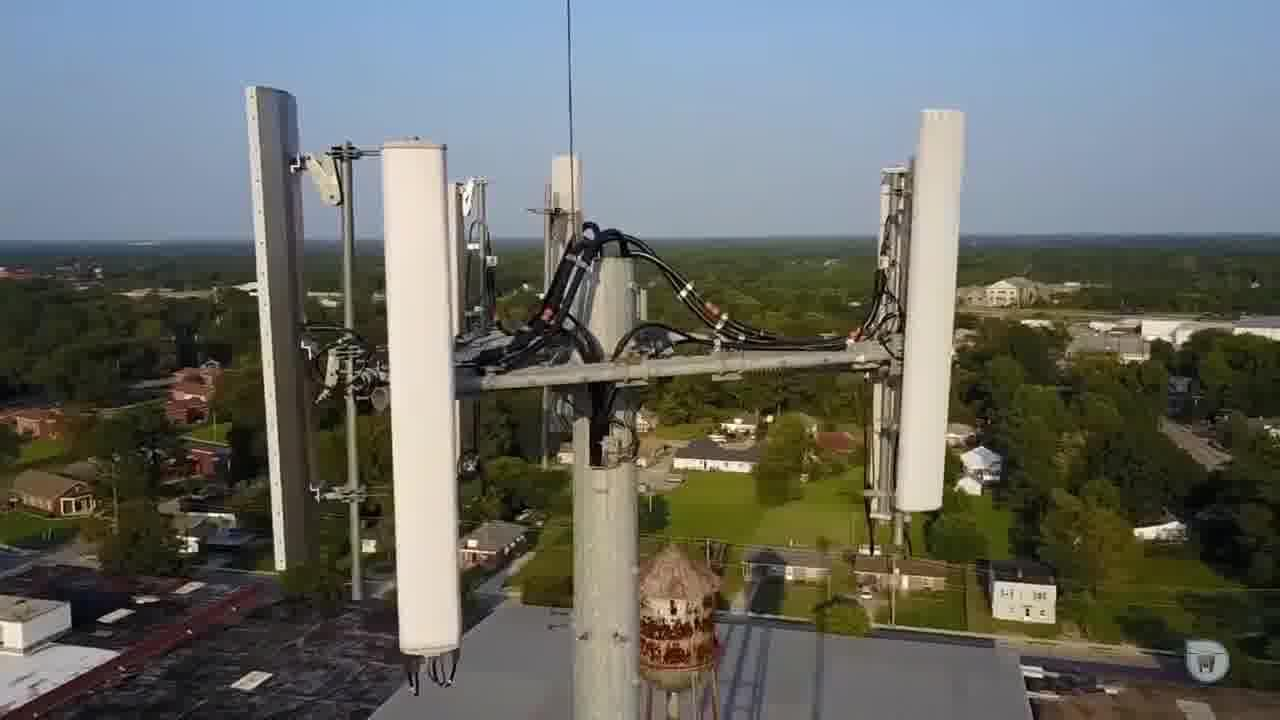antenna: (376, 129, 476, 662), (240, 77, 326, 576), (895, 97, 979, 524), (435, 161, 490, 523), (551, 133, 598, 351)
